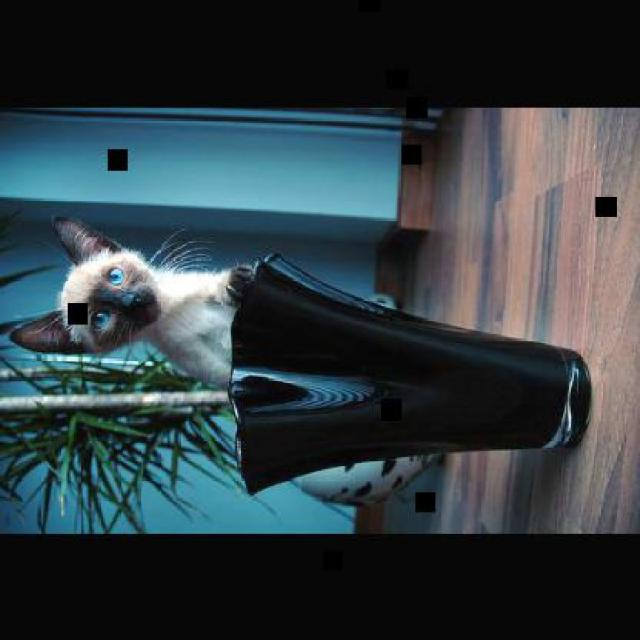unauthorized: (3, 214, 249, 391)
